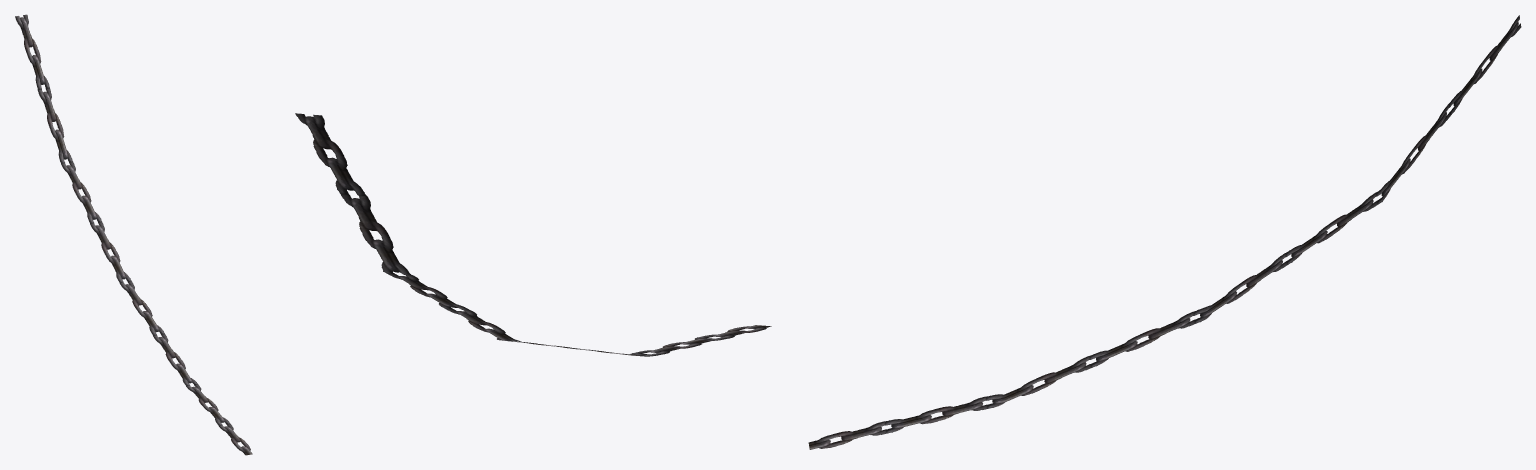
The model's file is unity_dungeon_chain01.FBX.
The picture shows the model from 3 angles, left to right: view 1: azimuth 30°, elevation 25°; view 2: azimuth 150°, elevation 25°; view 3: azimuth 270°, elevation 25°; orthographic projection. The views are drawn at different scales.
Visible parts, largest first — view 1: unity_dungeon_chain01; view 2: unity_dungeon_chain01; view 3: unity_dungeon_chain01.
Boxes of the visible parts, bbox=[...] form: unity_dungeon_chain01: bbox=[15, 14, 252, 455]; unity_dungeon_chain01: bbox=[295, 113, 771, 356]; unity_dungeon_chain01: bbox=[808, 15, 1521, 449].
Bounding box in the file's own units: 0.6118 × 9.22 × 13.91.
